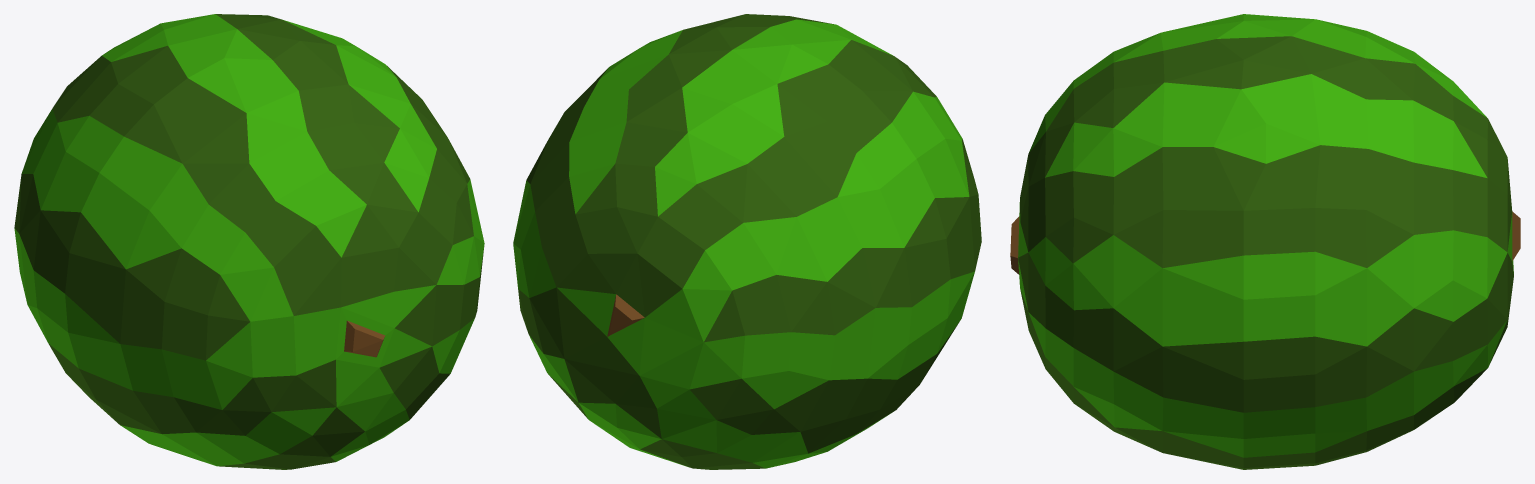
File: watermelon.obj
3 views of the same model, side by side, from view 1: azimuth 30°, elevation 25°; view 2: azimuth 150°, elevation 25°; view 3: azimuth 270°, elevation 25° (orthographic). The views are drawn at different scales.
Visible parts, largest first — view 1: watermelon; view 2: watermelon; view 3: watermelon.
Boxes of the visible parts, box(x1,y1,x2,y2) form: watermelon: box(14, 14, 484, 469); watermelon: box(513, 14, 981, 469); watermelon: box(1010, 14, 1520, 469).
Bounding box in the file's own units: 3.81 × 3.81 × 4.26.
